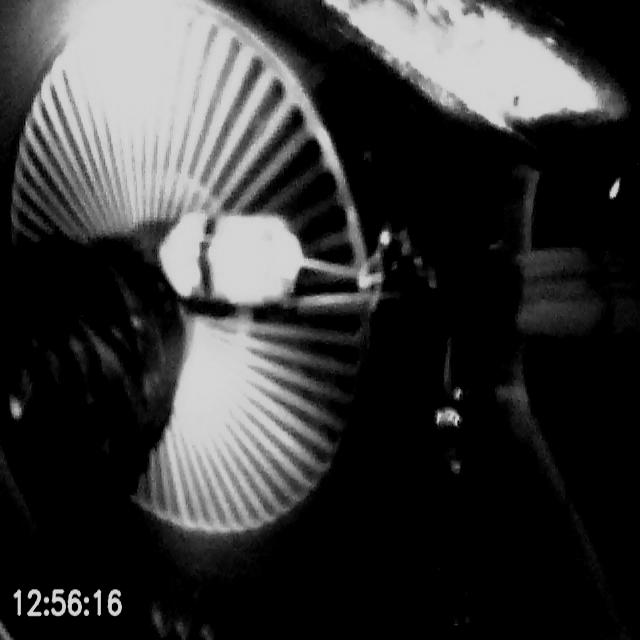head: (156, 213, 304, 306)
